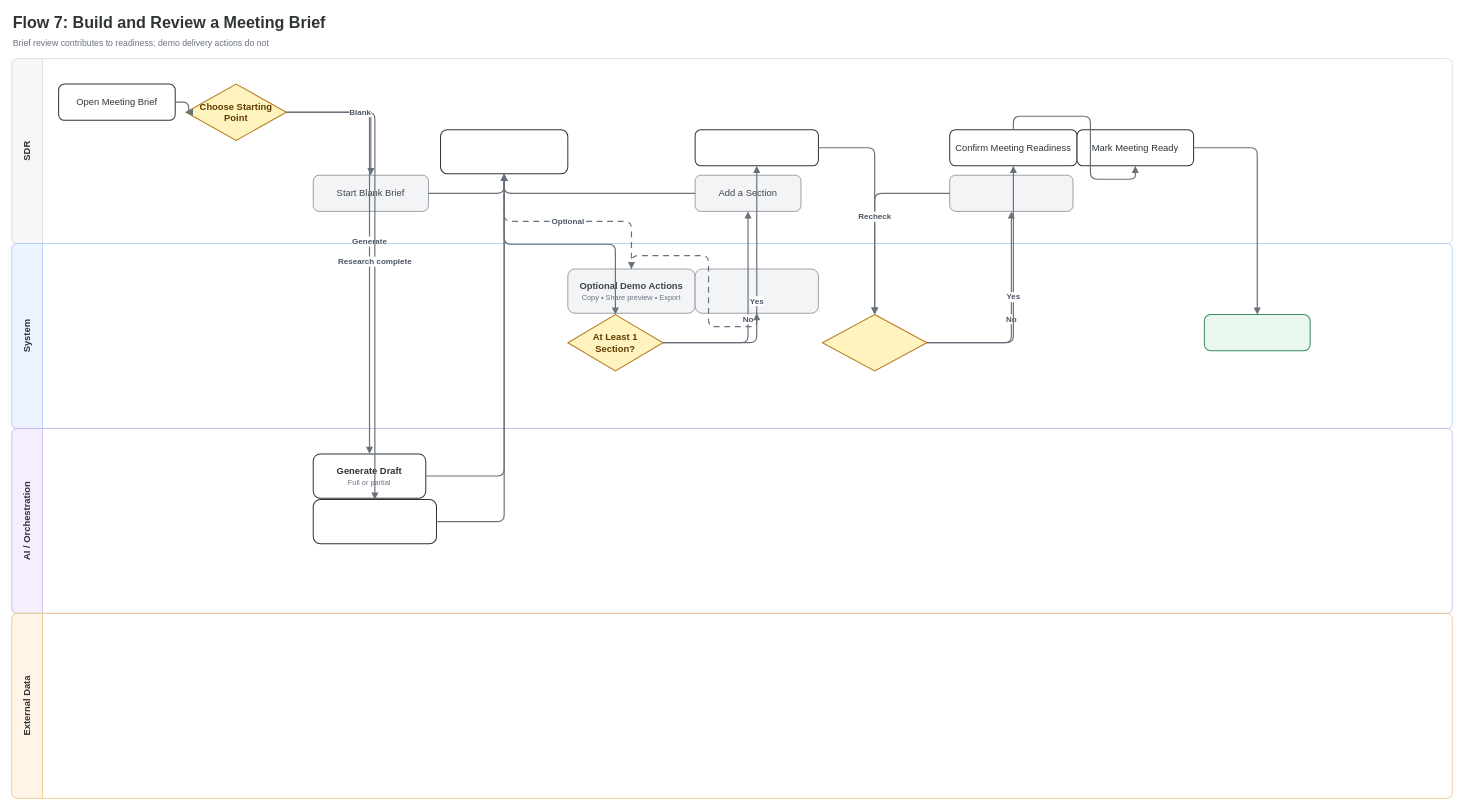
Image size: 1464x810. Some labels were removed from this diagram. The shapes that lost their labels are listed below. From the top down, each one's centre as x and y in pixels, then its label:
At point (504, 151): "Edit Brief Edit • Reorder • Remove • Add".
At point (756, 147): "Complete Brief Review".
At point (1011, 193): "Complete Remaining Tasks".
At point (756, 290): "No Effect on Readiness No external send or export".
At point (874, 342): "All 5 Conditions Complete?".
At point (1257, 332): "Meeting Ready".
At point (374, 521): "Open Auto-created Draft At 100% research".
